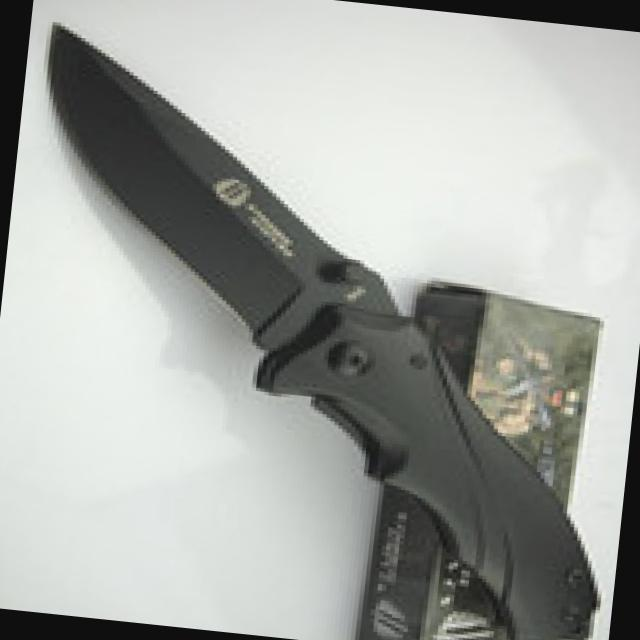knife: (10, 8, 420, 372)
